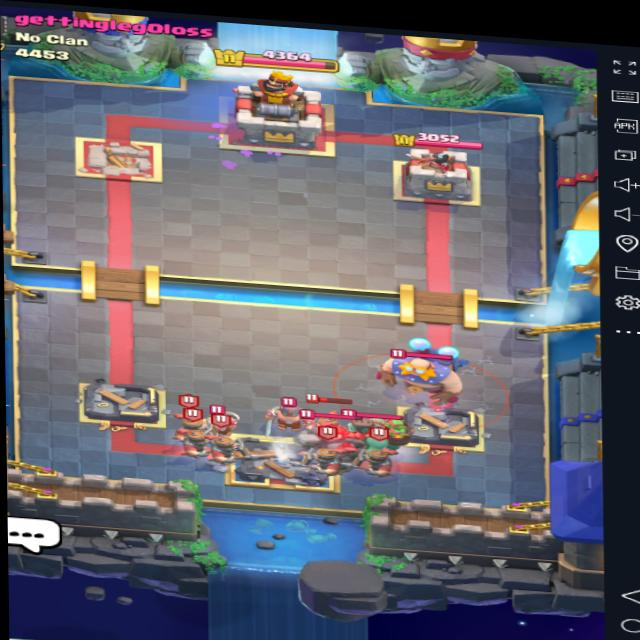electro-barbarians: (256, 391, 319, 433)
electro-giant: (379, 340, 481, 409)
goblin-giant: (343, 402, 419, 461)
golem: (292, 410, 391, 467)
royal-recruits: (356, 430, 411, 485), (299, 433, 354, 480), (161, 398, 213, 444), (177, 417, 228, 458), (199, 425, 246, 468)
